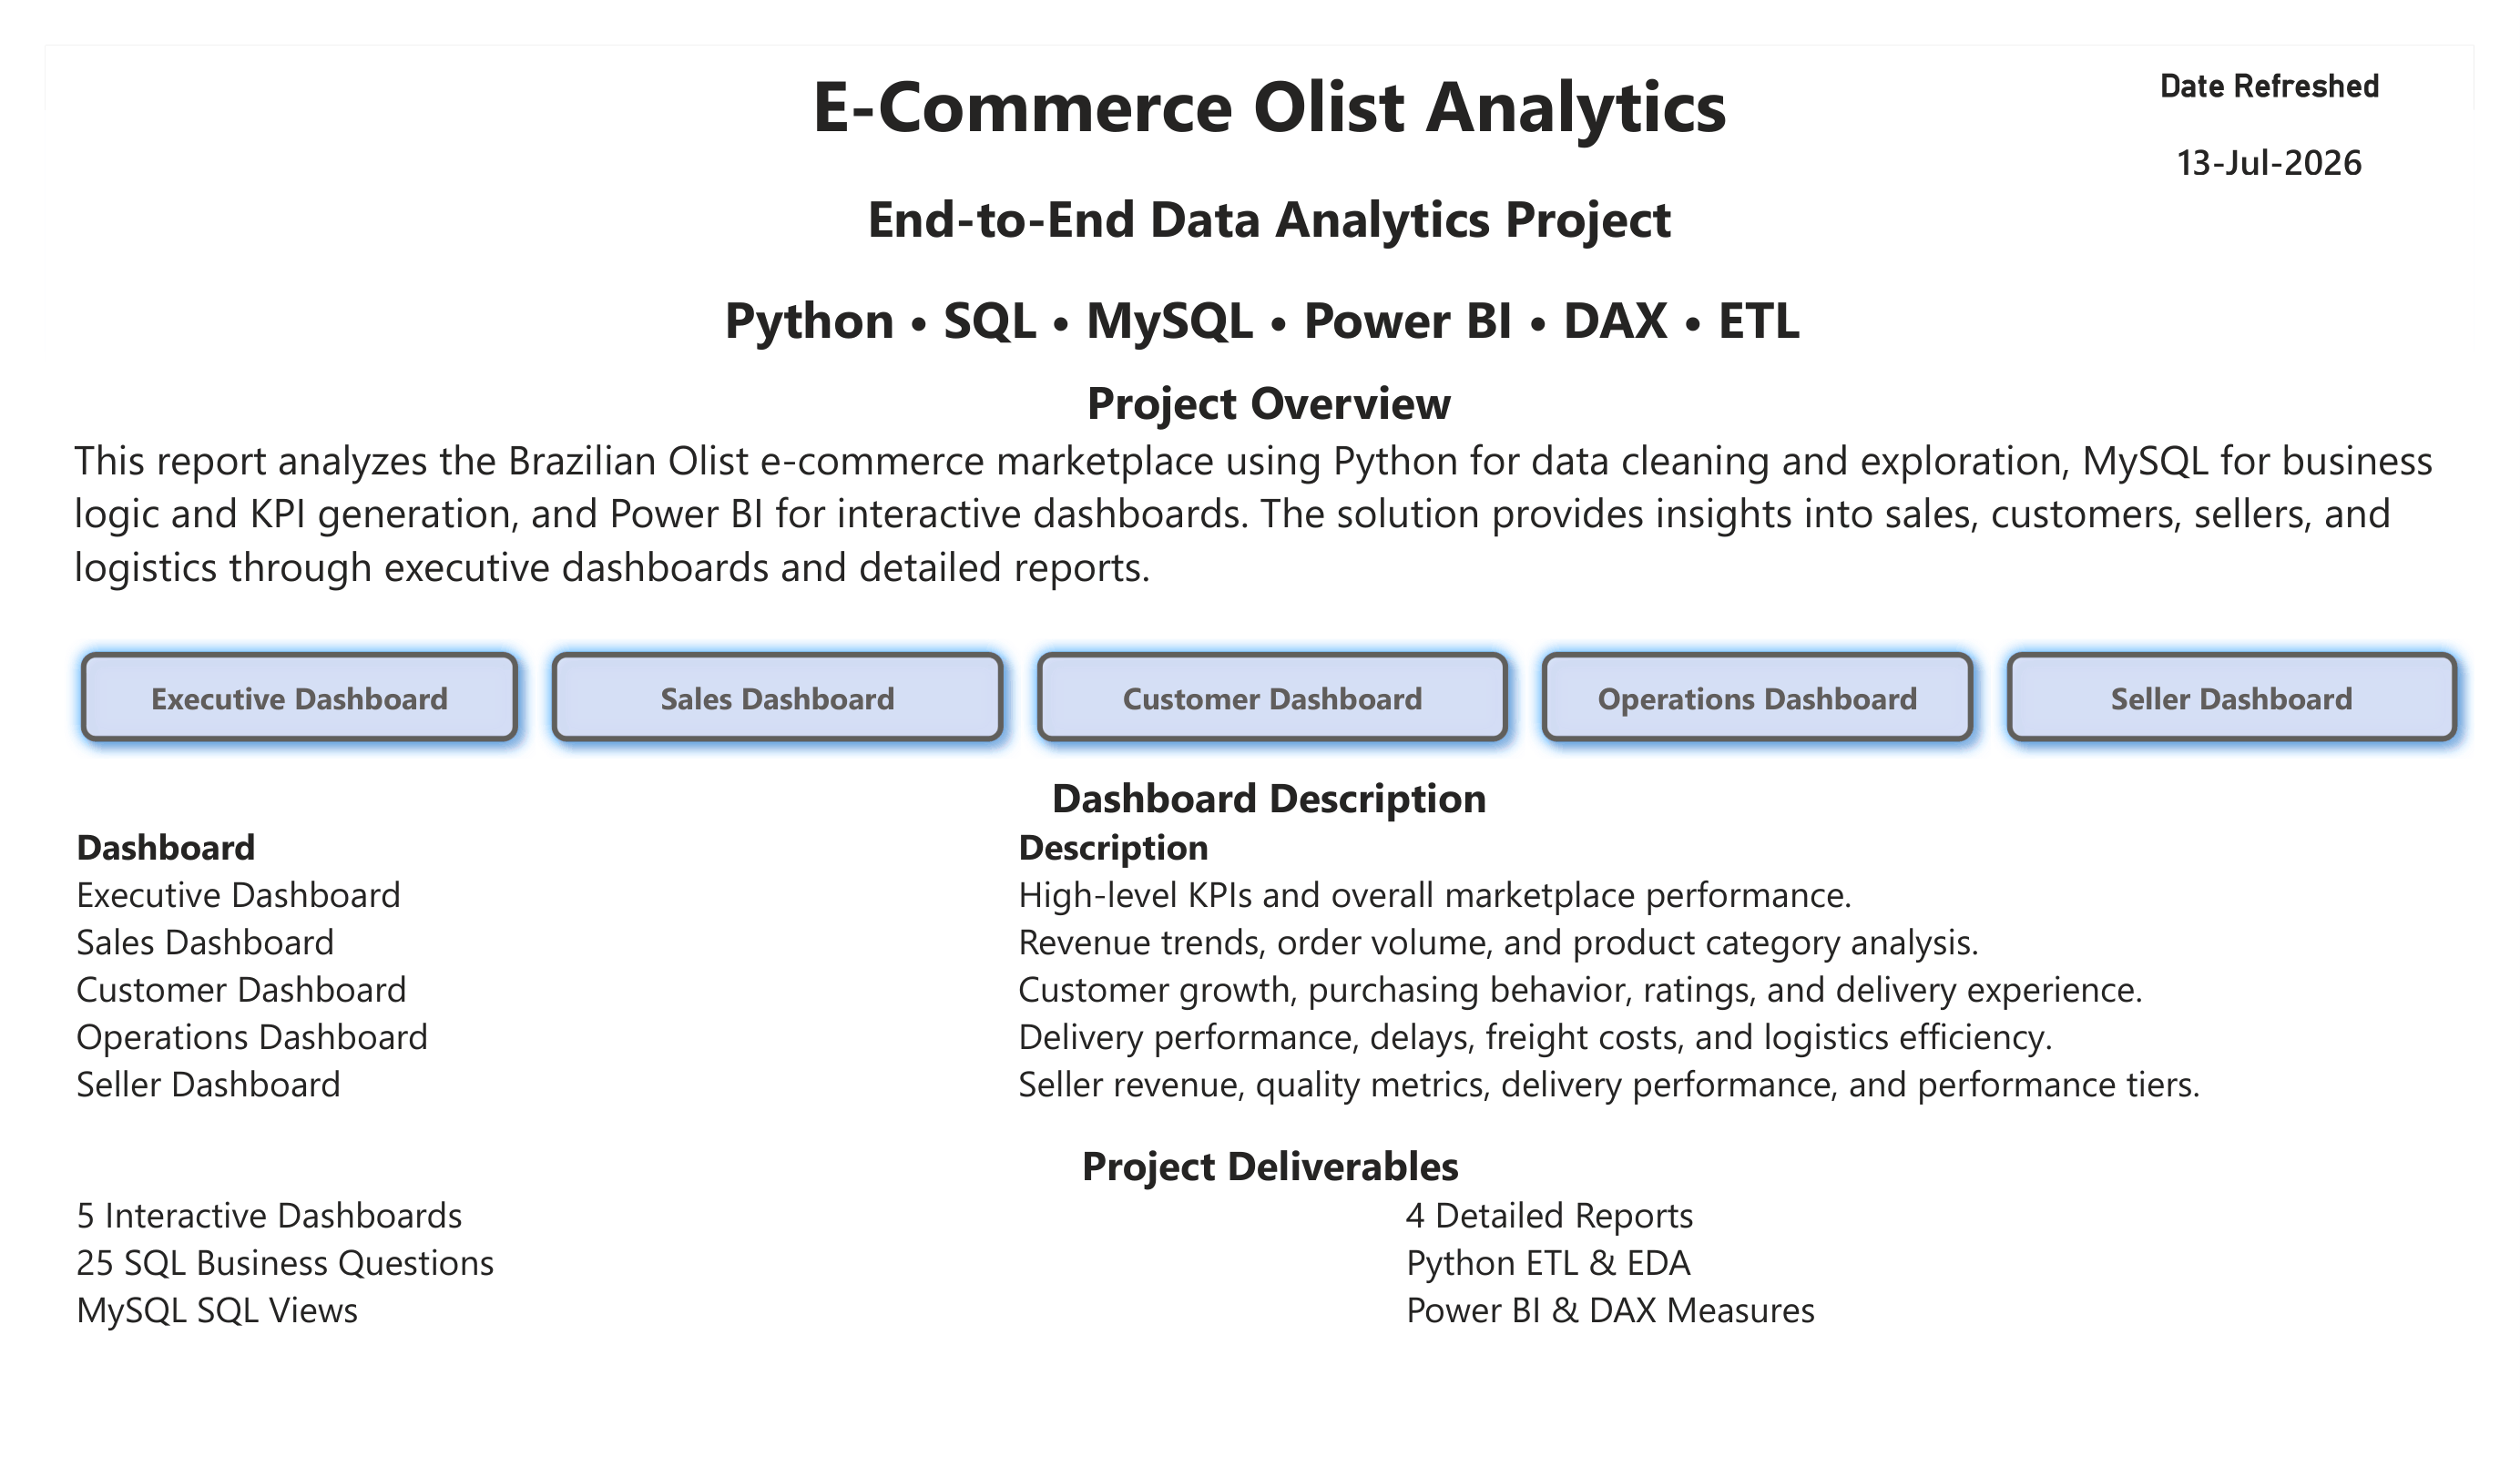

The dashboard page shown, as its layout file describes it:
{"tool":"powerbi","page":{"name":"Project Overview","canvas":[1280,720],"ordinal":0},"visuals":[{"type":"textbox","box":[10.5,0,1269.7,67.2],"z":0},{"type":"textbox","box":[10.5,67.2,1269.7,98.6],"z":1000},{"type":"textbox","box":[10.5,165.8,1269.7,144.9],"z":2000},{"type":"cardVisual","title":"Date Refreshed","fields":{"Data":["Measures (2).Last Refresh Date"]},"box":[1064.8,10.6,215.2,82.4],"z":3000},{"type":"actionButton","box":[10.5,310.7,248,65.7],"z":4000},{"type":"actionButton","box":[258.4,310.7,255.4,65.7],"z":5000},{"type":"actionButton","box":[513.9,310.7,265.9,65.7],"z":6000},{"type":"actionButton","box":[779.8,310.7,245,65.7],"z":7000},{"type":"actionButton","box":[1024.6,310.7,255.4,65.7],"z":8000},{"type":"textbox","box":[10.6,375.9,1268.6,188.6],"z":9000},{"type":"textbox","box":[11,570,1269,150],"z":10000}]}

Visuals, with their boxes on the page's 1280x720 design canvas (x1, y1, x2, y2). These are canvas units, not pixel positions in the 2520x1457 screenshot, which may show the page scaled, cropped or inside an application window:
textbox: {"x1": 10, "y1": 0, "x2": 1280, "y2": 67}
textbox: {"x1": 10, "y1": 67, "x2": 1280, "y2": 166}
textbox: {"x1": 10, "y1": 166, "x2": 1280, "y2": 311}
"Date Refreshed" cardVisual: {"x1": 1065, "y1": 11, "x2": 1280, "y2": 93}
actionButton: {"x1": 10, "y1": 311, "x2": 258, "y2": 376}
actionButton: {"x1": 258, "y1": 311, "x2": 514, "y2": 376}
actionButton: {"x1": 514, "y1": 311, "x2": 780, "y2": 376}
actionButton: {"x1": 780, "y1": 311, "x2": 1025, "y2": 376}
actionButton: {"x1": 1025, "y1": 311, "x2": 1280, "y2": 376}
textbox: {"x1": 11, "y1": 376, "x2": 1279, "y2": 564}
textbox: {"x1": 11, "y1": 570, "x2": 1280, "y2": 720}
